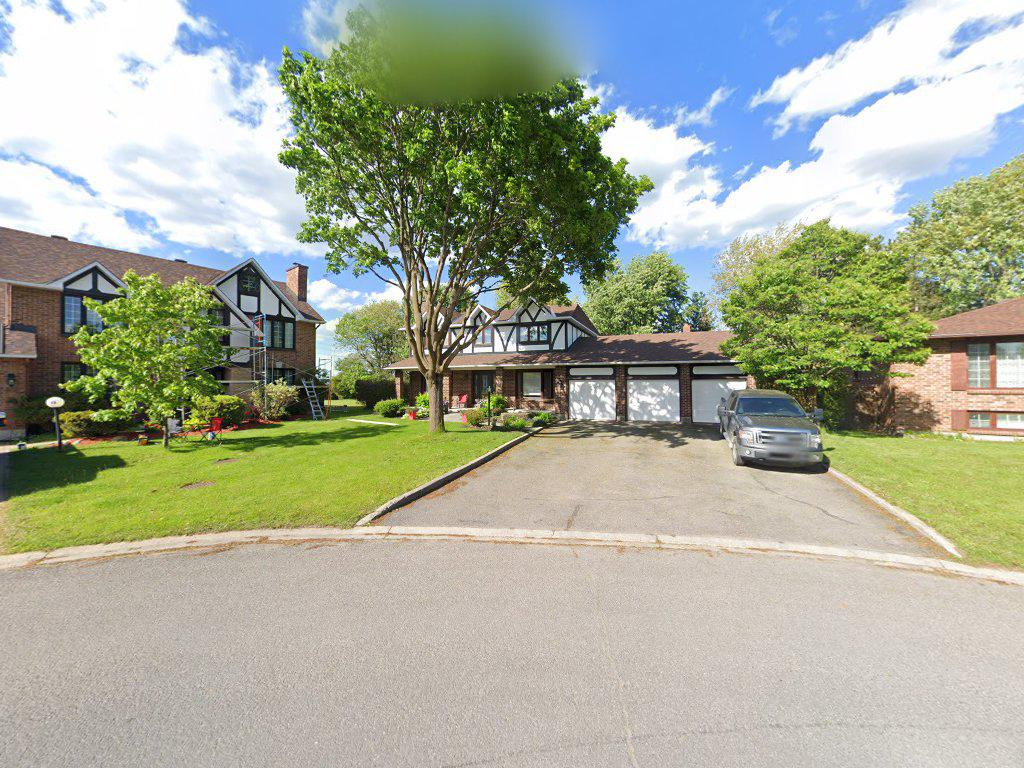trunk: (421, 324, 452, 437)
